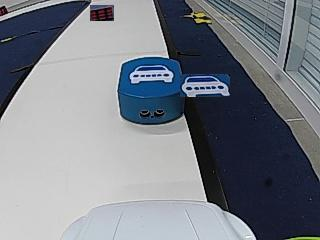safety: (128, 64, 177, 84)
